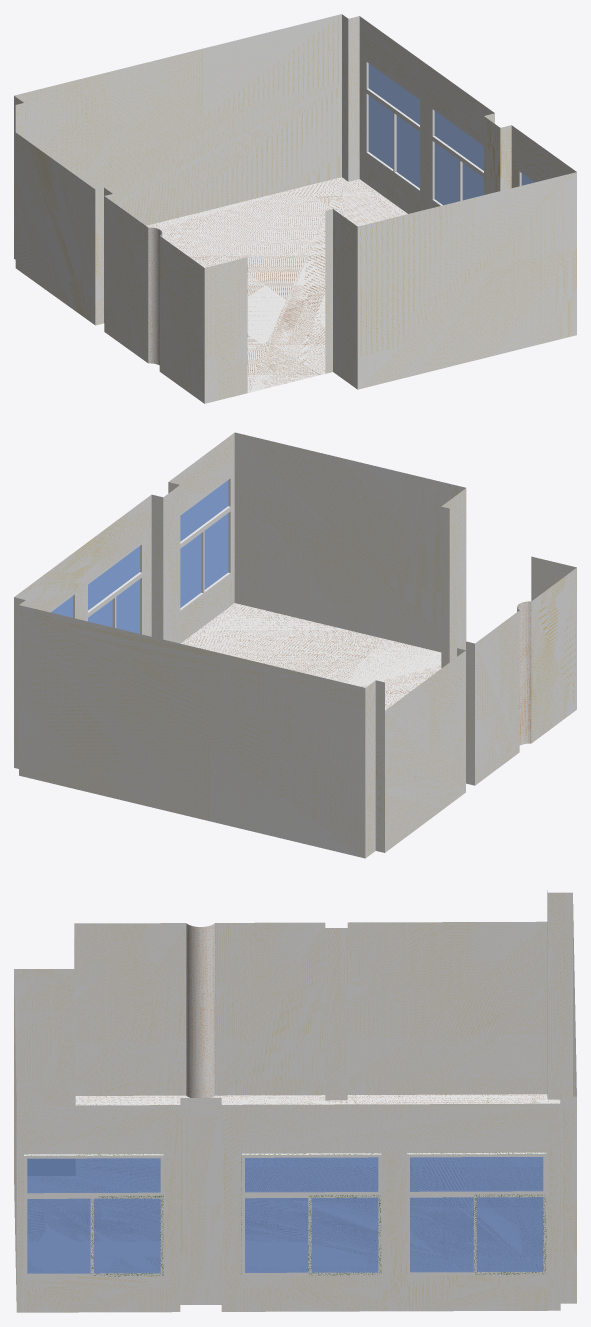
File: LAB010.obj
The picture shows the model from 3 angles, top to bottom: view 1: azimuth 30°, elevation 25°; view 2: azimuth 150°, elevation 25°; view 3: azimuth 270°, elevation 25°; orthographic projection. The views are drawn at different scales.
Visible parts, largest first — view 1: Mesh19 LAB010 Model, Mesh7 ventana1_2_2 LAB010 Model, Mesh13 ventana1_2_3 LAB010 Model; view 2: Mesh19 LAB010 Model, Mesh1 ventana1_2_1 LAB010 Model, Mesh13 ventana1_2_3 LAB010 Model; view 3: Mesh19 LAB010 Model, Mesh13 ventana1_2_3 LAB010 Model, Mesh1 ventana1_2_1 LAB010 Model, Mesh7 ventana1_2_2 LAB010 Model.
Boxes of the visible parts, x1=… form: Mesh19 LAB010 Model: x1=14, y1=14, x2=576, y2=403; Mesh7 ventana1_2_2 LAB010 Model: x1=365, y1=59, x2=420, y2=193; Mesh13 ventana1_2_3 LAB010 Model: x1=431, y1=106, x2=483, y2=206; Mesh19 LAB010 Model: x1=14, y1=432, x2=576, y2=858; Mesh1 ventana1_2_1 LAB010 Model: x1=180, y1=475, x2=231, y2=612; Mesh13 ventana1_2_3 LAB010 Model: x1=86, y1=541, x2=143, y2=634; Mesh19 LAB010 Model: x1=14, y1=890, x2=576, y2=1312; Mesh13 ventana1_2_3 LAB010 Model: x1=241, y1=1153, x2=381, y2=1275; Mesh1 ventana1_2_1 LAB010 Model: x1=24, y1=1154, x2=163, y2=1276; Mesh7 ventana1_2_2 LAB010 Model: x1=407, y1=1152, x2=546, y2=1275.
Bounding box in the file's own units: 8.19 × 3.6 × 8.87.
9 materials, 2 textured.
